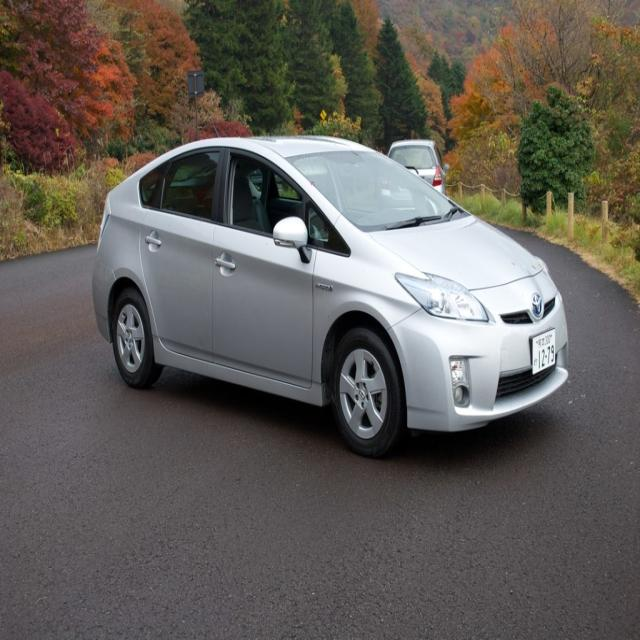Car: (92, 136, 568, 458), (387, 139, 450, 203)
